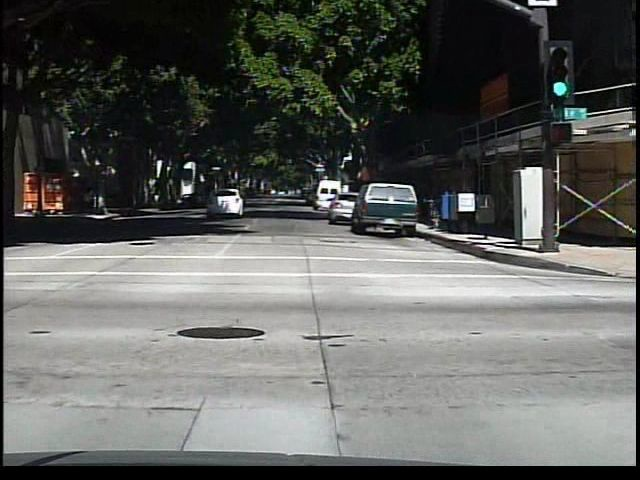person: (82, 182, 99, 216)
